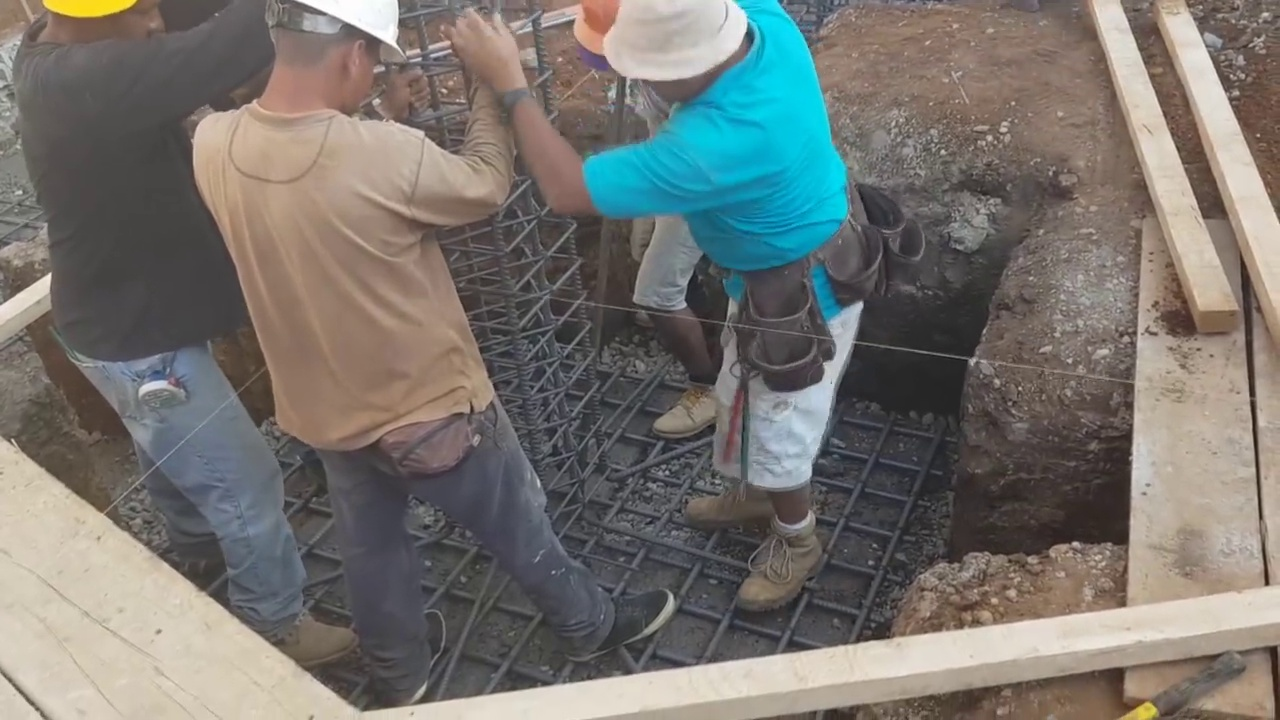helmet: (246, 0, 411, 65)
helmet-off: (602, 1, 760, 118)
helmet-on: (239, 0, 403, 124)
person: (192, 0, 680, 701), (457, 3, 866, 614), (19, 0, 325, 667)
